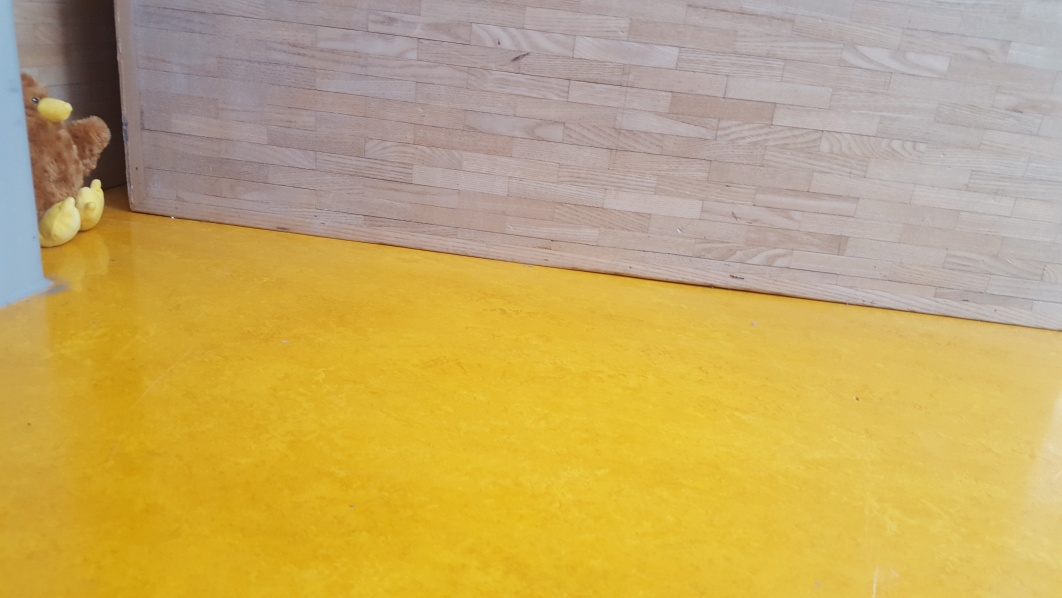chicken: (18, 65, 112, 251)
